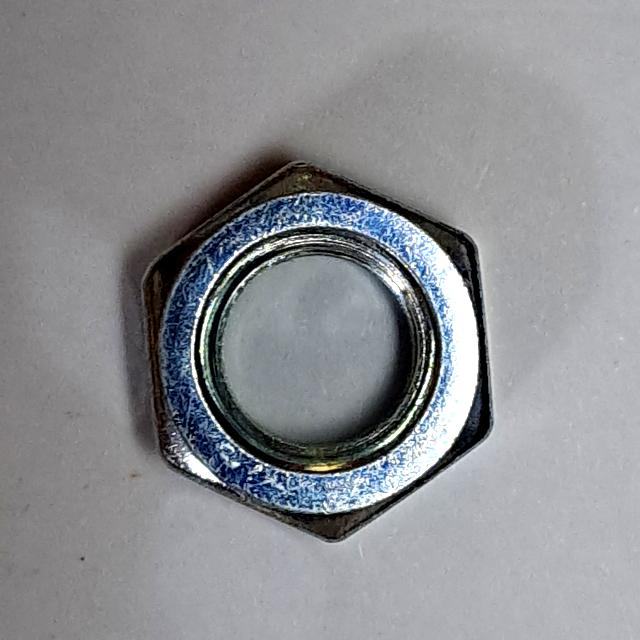Excellent: (128, 147, 508, 558)
